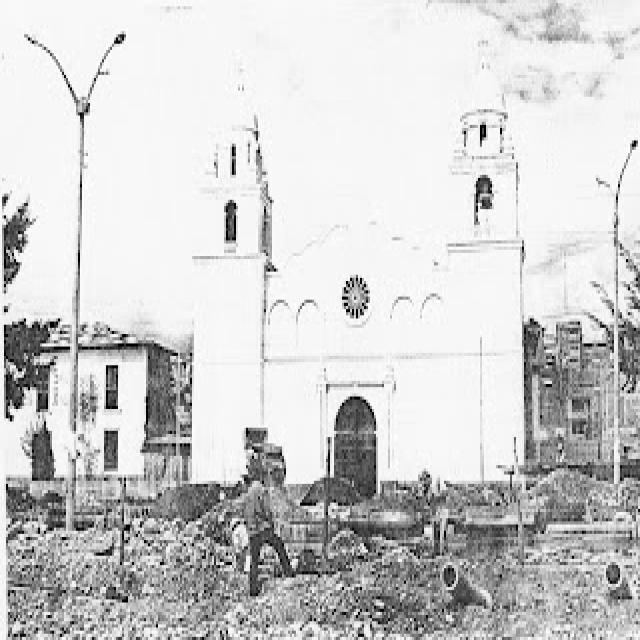CAMPANARIO: (191, 171, 270, 266), (444, 150, 522, 246)
CUPULA: (455, 51, 515, 151), (205, 88, 267, 178)
PORTADA CENTRAL: (319, 365, 395, 500)
SIMETRIA COLONIAL: (178, 15, 541, 517)
TORRES: (439, 17, 528, 505), (184, 53, 281, 497)
colonial-architecture-: (0, 0, 637, 504)
